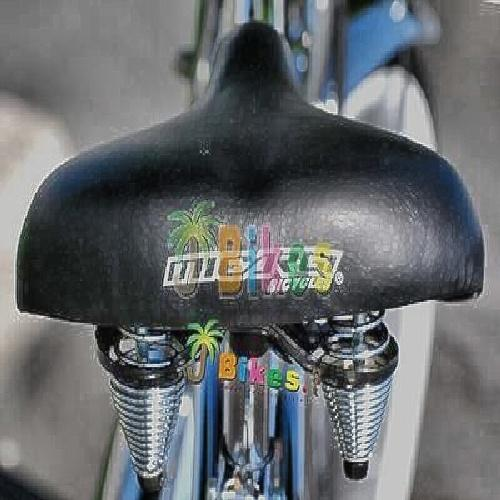bicycle: (58, 43, 430, 444)
